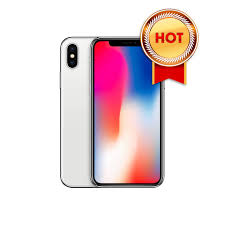iphone: (88, 35, 166, 189)
iphone10: (88, 35, 166, 189)
